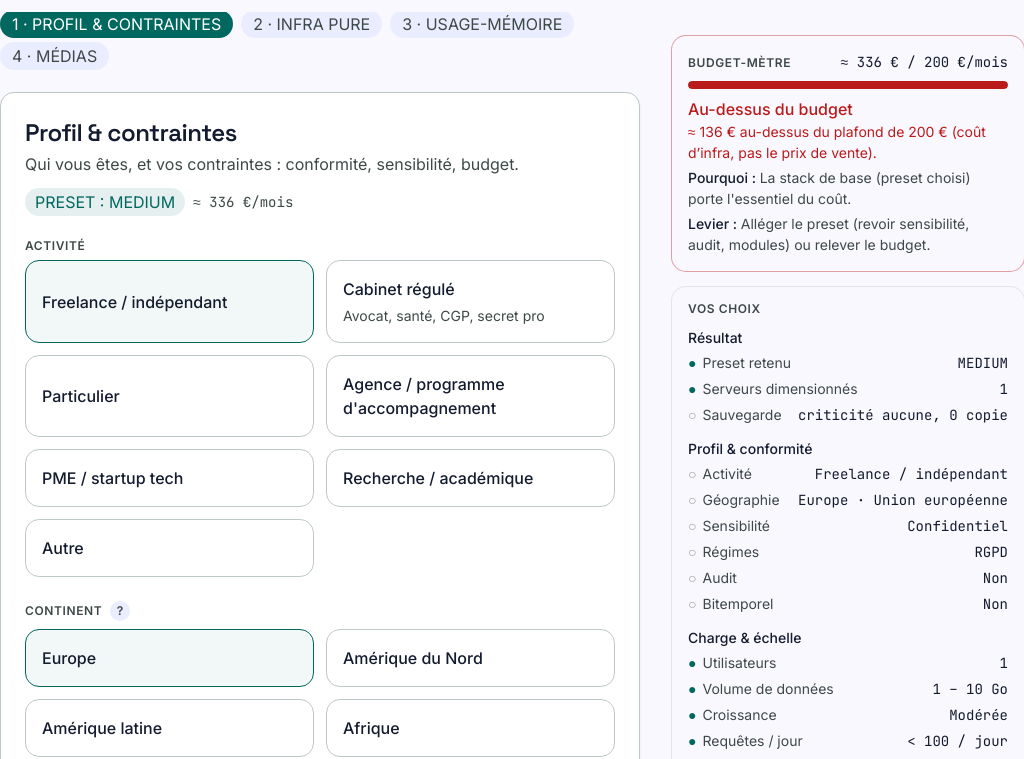
Test: Wizard (4 blocs) › saisie « Autre » (S-064) › affiche la saisie inline dès que l'activité est réglée sur « Autre »
Expected: the heading "Profil & contraintes" is shown, [25,117,237,148]
La 1ʳᵉ carte « Autre » est celle de l'activité (avant le champ Zone).
Step 1. Click the button "Autre" → {"x": 63, "y": 548}, box [25,519,314,577]
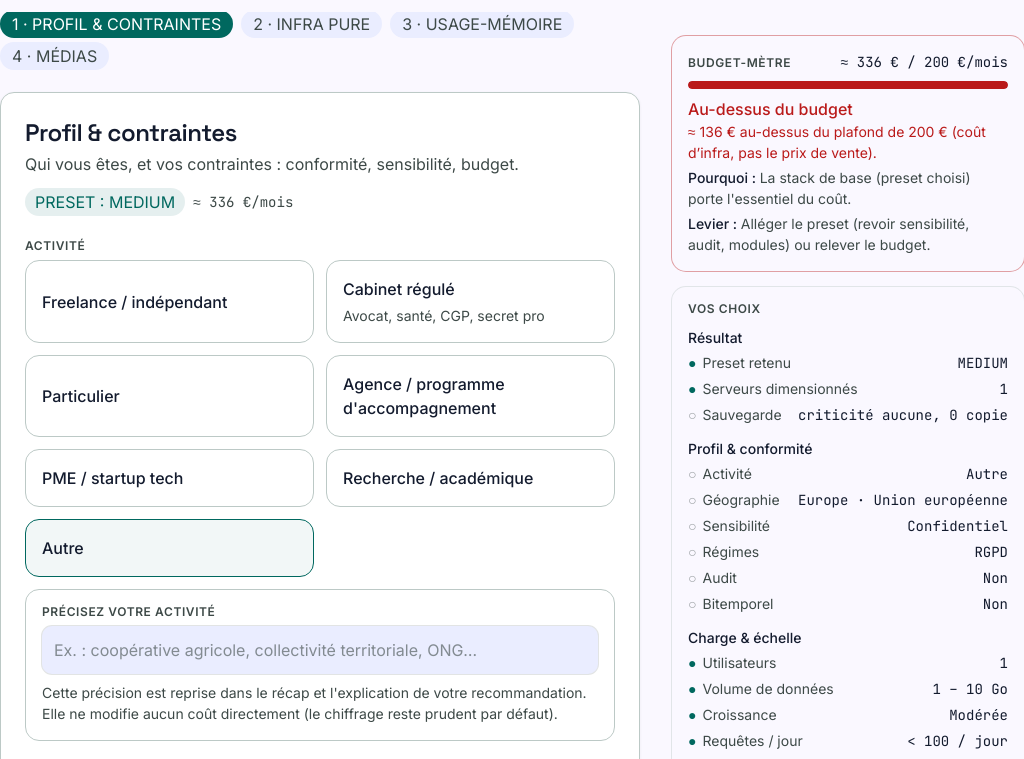
Now the field labelled "Précisez votre activité" is shown, box [42,626,598,674]
